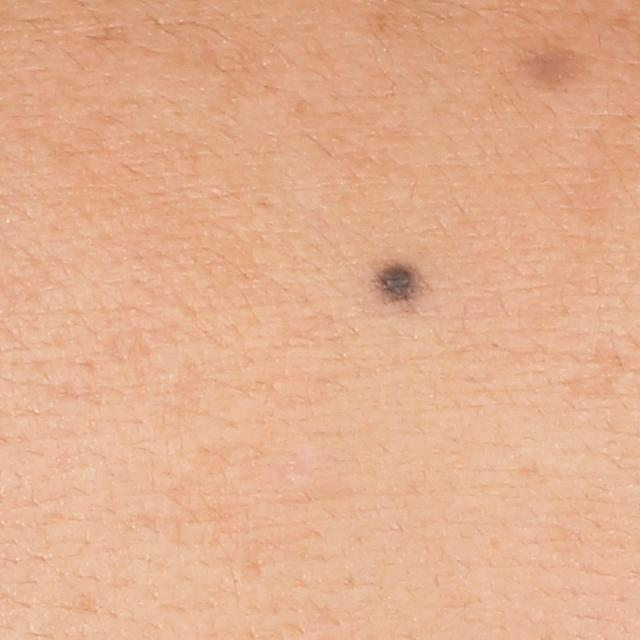nevus: (372, 260, 433, 308)
